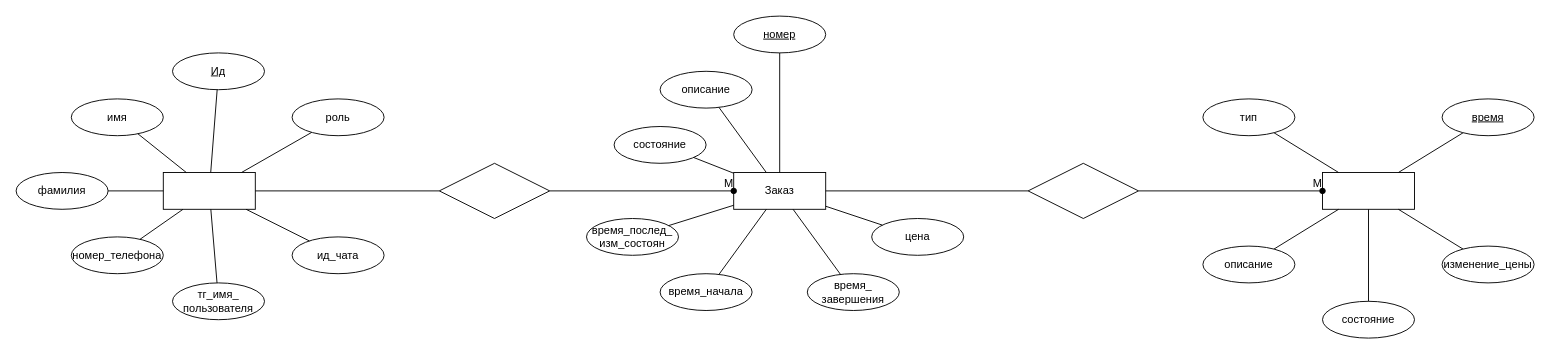
This 1550x354 diagram has some shape labels left out. The shapes that lost their labels are listed below. From the top down, each one's centre as x and y in pixels, then its label:
At (208,190): "Пользователь".
At (494,190): "исполняет/оформляет".
At (1082,190): "дополняется".
At (1368,190): "Доп_требование".
